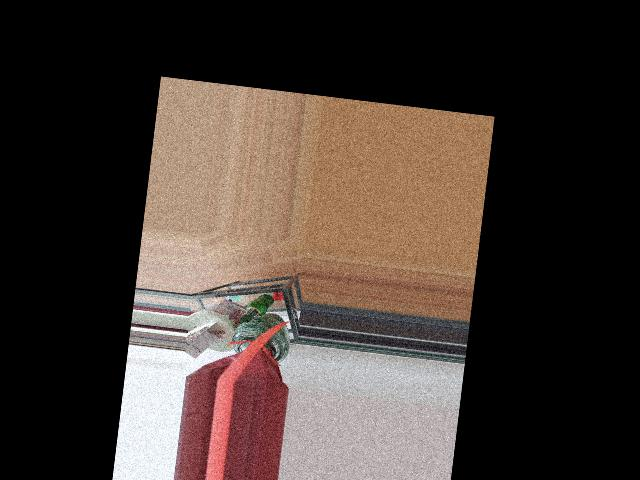beer: (240, 291, 275, 326)
